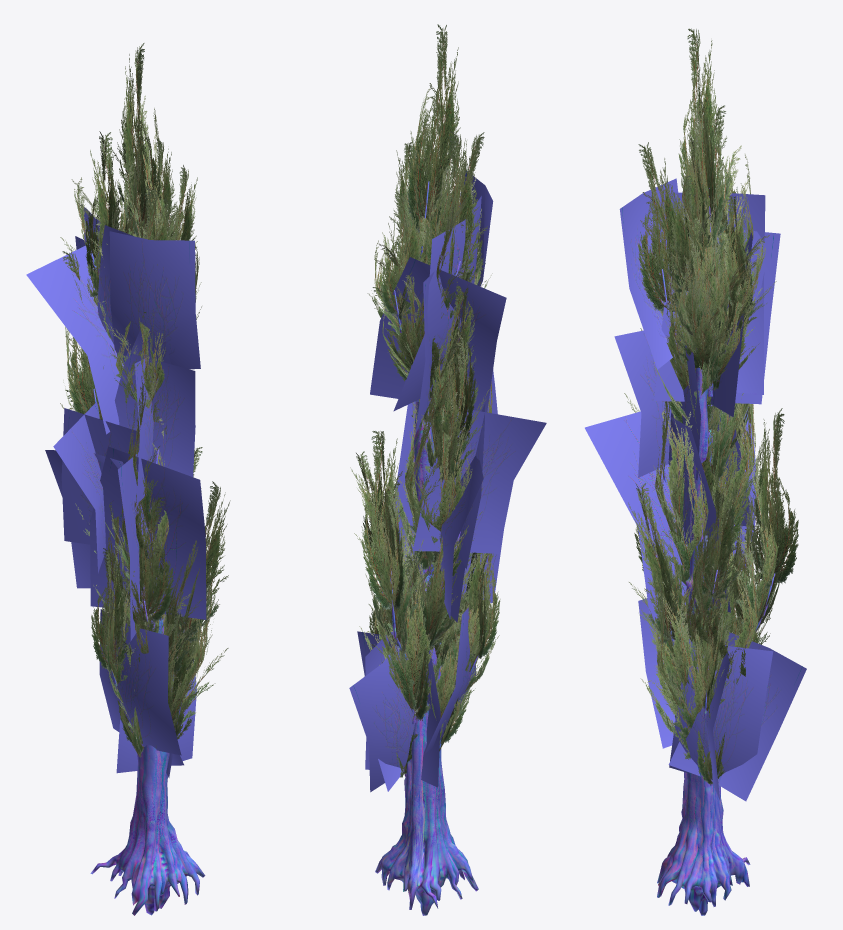
The model's file is CypressTree00c.fbx.
The picture shows the model from 3 angles, left to right: view 1: azimuth 30°, elevation 25°; view 2: azimuth 150°, elevation 25°; view 3: azimuth 270°, elevation 25°; orthographic projection.
Visible parts, largest first — view 1: CypressBranch_A023, CypressBranch_B060, cypresstree00Trunk, CypressBranch_A024, CypressBranch_A026, CypressBranch_A019, CypressBranch_B017, CypressBranch_A012, CypressBranch_A030, CypressBranch_A020, CypressBranch_A006, CypressBranch_A002 (+19 smaller); view 2: cypresstree00Trunk, CypressBranch_A026, CypressBranch_A019, CypressBranch_A012, CypressBranch_B012, CypressBranch_B070, CypressBranch_A008, CypressBranch_A022, CypressBranch_A020, CypressBranch_B024, CypressBranch_A023, CypressBranch_B025 (+31 smaller); view 3: cypresstree00Trunk, CypressBranch_A023, CypressBranch_B010, CypressBranch_A024, CypressBranch_A019, CypressBranch_B012, CypressBranch_A008, CypressBranch_A012, CypressBranch_A018, CypressBranch_B060, CypressBranch_A002, CypressBranch_B070 (+41 smaller).
Boxes of the visible parts, x1=… form: CypressBranch_A023: x1=90, y1=440, x2=206, y2=641; CypressBranch_B060: x1=109, y1=231, x2=200, y2=369; cypresstree00Trunk: x1=90, y1=607, x2=205, y2=915; CypressBranch_A024: x1=114, y1=352, x2=195, y2=503; CypressBranch_A026: x1=53, y1=402, x2=139, y2=573; CypressBranch_A019: x1=26, y1=236, x2=170, y2=434; CypressBranch_B017: x1=99, y1=609, x2=181, y2=755; CypressBranch_A012: x1=112, y1=43, x2=161, y2=236; CypressBranch_A030: x1=114, y1=496, x2=173, y2=622; CypressBranch_A020: x1=85, y1=131, x2=123, y2=297; CypressBranch_A006: x1=91, y1=548, x2=130, y2=672; CypressBranch_A002: x1=177, y1=481, x2=230, y2=642; cypresstree00Trunk: x1=375, y1=401, x2=478, y2=915; CypressBranch_A026: x1=412, y1=403, x2=546, y2=568; CypressBranch_A019: x1=370, y1=257, x2=506, y2=434; CypressBranch_A012: x1=407, y1=24, x2=464, y2=234; CypressBranch_B012: x1=349, y1=645, x2=415, y2=792; CypressBranch_B070: x1=393, y1=196, x2=481, y2=411; CypressBranch_A008: x1=361, y1=431, x2=410, y2=610; CypressBranch_A022: x1=432, y1=271, x2=482, y2=444; CypressBranch_A020: x1=425, y1=131, x2=487, y2=299; CypressBranch_B024: x1=368, y1=532, x2=448, y2=712; CypressBranch_A023: x1=382, y1=403, x2=503, y2=622; CypressBranch_B025: x1=365, y1=482, x2=423, y2=646; cypresstree00Trunk: x1=657, y1=305, x2=750, y2=915; CypressBranch_A023: x1=585, y1=411, x2=730, y2=621; CypressBranch_B010: x1=669, y1=636, x2=773, y2=775; CypressBranch_A024: x1=614, y1=330, x2=700, y2=480; CypressBranch_A019: x1=654, y1=229, x2=780, y2=416; CypressBranch_B012: x1=668, y1=632, x2=806, y2=801; CypressBranch_A008: x1=741, y1=408, x2=798, y2=588; CypressBranch_A012: x1=678, y1=28, x2=730, y2=235; CypressBranch_A018: x1=638, y1=142, x2=683, y2=314; CypressBranch_B060: x1=619, y1=178, x2=678, y2=369; CypressBranch_A002: x1=628, y1=483, x2=683, y2=643; CypressBranch_B070: x1=659, y1=192, x2=765, y2=394.
Bounding box in the file's own units: 494 × 2082 × 538.
